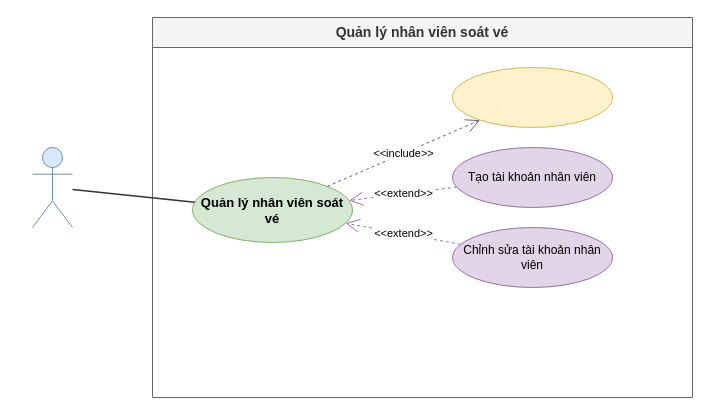
The diagram is 710 pixels wide and 415 high, and some of its shapes have lost their labels. Here are the shapes that lost their labels. From the top down, the box of each, then its label:
(452, 66, 612, 128): Xem danh sách tài khoản Staff
(32, 146, 72, 228): Ban tổ chức
